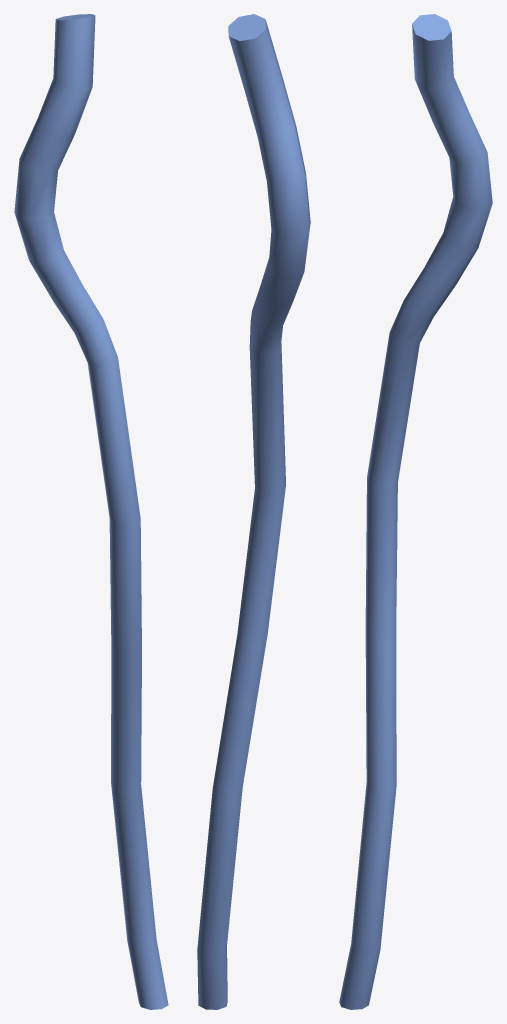
File: veines-ulnaires.glb
The picture shows the model from 3 angles, left to right: view 1: azimuth 90°, elevation 25°; view 2: azimuth 210°, elevation 25°; view 3: azimuth 270°, elevation 25°; orthographic projection. The views are drawn at different scales.
Visible parts, largest first — view 1: veines-ulnaires; view 2: veines-ulnaires; view 3: veines-ulnaires.
Part boxes in pixels (<box>): veines-ulnaires: <box>14,14,168,1009</box>; veines-ulnaires: <box>197,14,310,1009</box>; veines-ulnaires: <box>339,14,492,1009</box>.
Bounding box in the file's own units: 0.00886 × 0.1077 × 0.0152.
